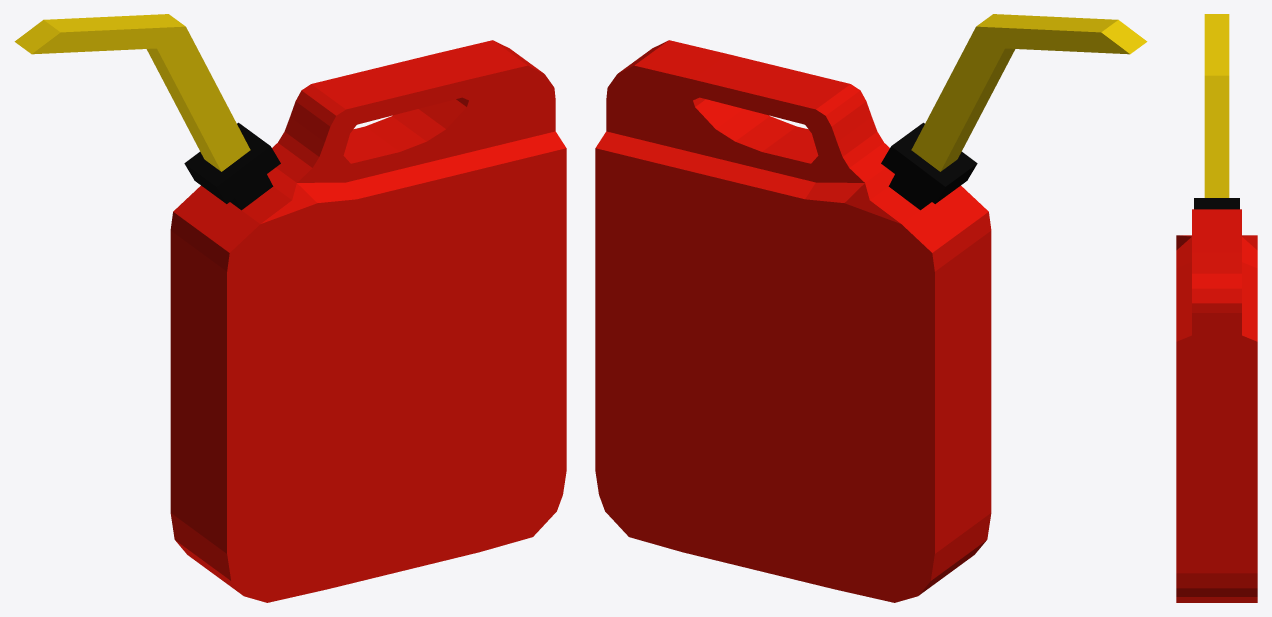
Rendered from gas.fbx.
The picture shows the model from 3 angles, left to right: view 1: azimuth 30°, elevation 25°; view 2: azimuth 150°, elevation 25°; view 3: azimuth 270°, elevation 25°; orthographic projection. The views are drawn at different scales.
Parts seen in each view (by area): view 1: Cube; view 2: Cube; view 3: Cube.
Part boxes in pixels (x1,y1,x2,y2): Cube: (14,14,566,602); Cube: (595,14,1147,602); Cube: (1176,14,1257,602).
Size of the model in its own units: 230 by 257 by 43.7.
